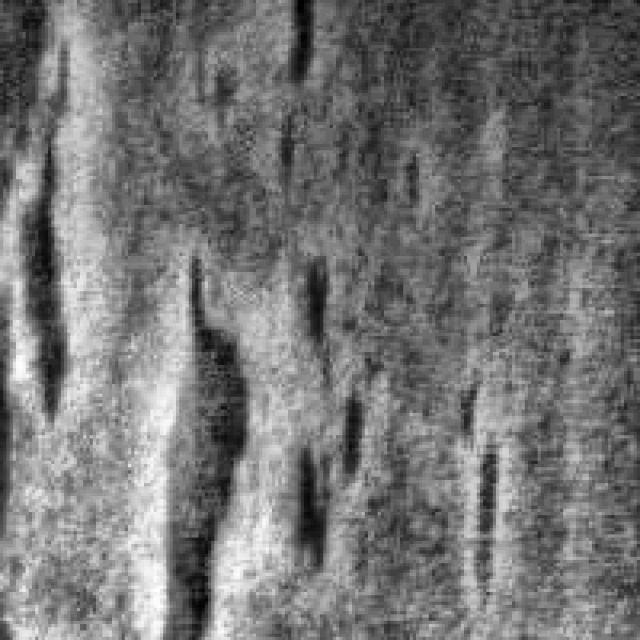Patches: (154, 244, 252, 630), (0, 0, 90, 419), (284, 362, 372, 572), (442, 364, 508, 612), (284, 250, 340, 380), (268, 0, 324, 96)
